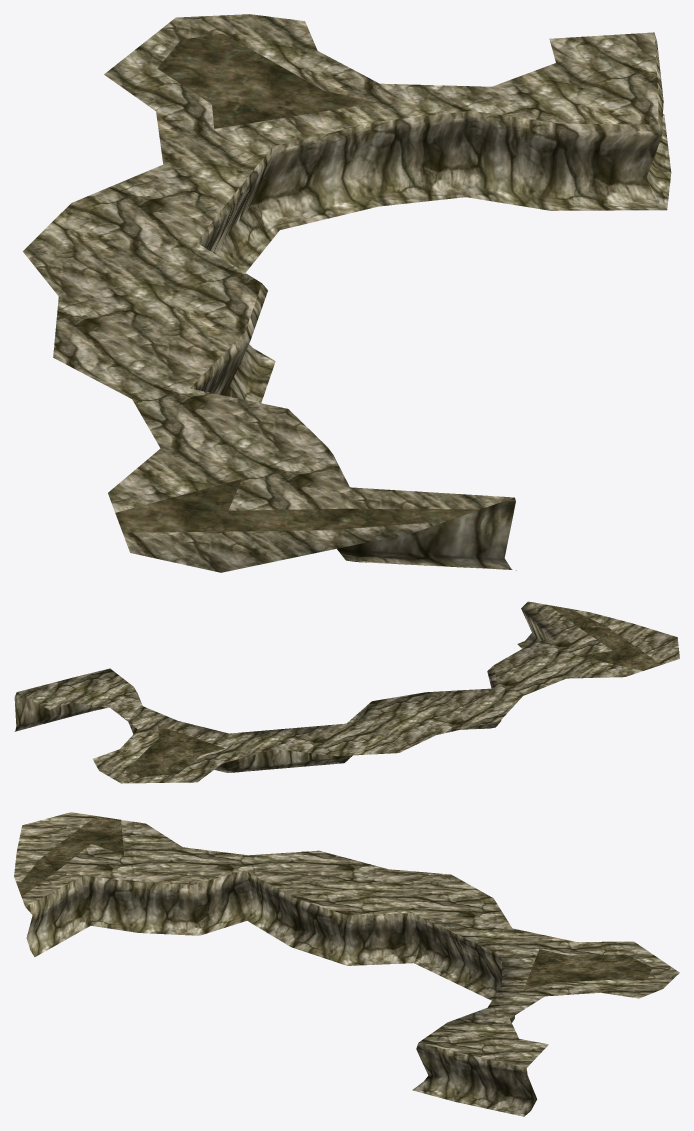
Rendered from CB_NEWPLAYSURFACE_CB_PLAYSURFACE99.fbx.
3 renders of one model, top to bottom at view 1: azimuth 30°, elevation 25°; view 2: azimuth 150°, elevation 25°; view 3: azimuth 270°, elevation 25°, orthographic. The views are drawn at different scales.
Parts seen in each view (by area): view 1: CB_NEWPLAYSURFACE_CB_PLAYSURFACE99; view 2: CB_NEWPLAYSURFACE_CB_PLAYSURFACE99; view 3: CB_NEWPLAYSURFACE_CB_PLAYSURFACE99.
Boxes of the visible parts, x1=… form: CB_NEWPLAYSURFACE_CB_PLAYSURFACE99: x1=23, y1=14, x2=671, y2=572; CB_NEWPLAYSURFACE_CB_PLAYSURFACE99: x1=14, y1=601, x2=679, y2=783; CB_NEWPLAYSURFACE_CB_PLAYSURFACE99: x1=14, y1=812, x2=679, y2=1116.
Size of the model in its own units: 419854 by 35371 by 457006.
Materials: 3 (3 with a texture image).
